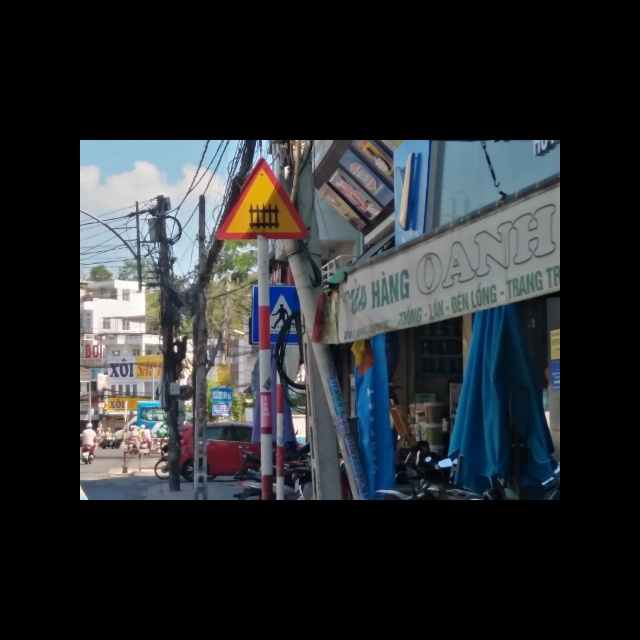Giao nhau với đường sắt có rào chắn: (213, 156, 310, 240)
